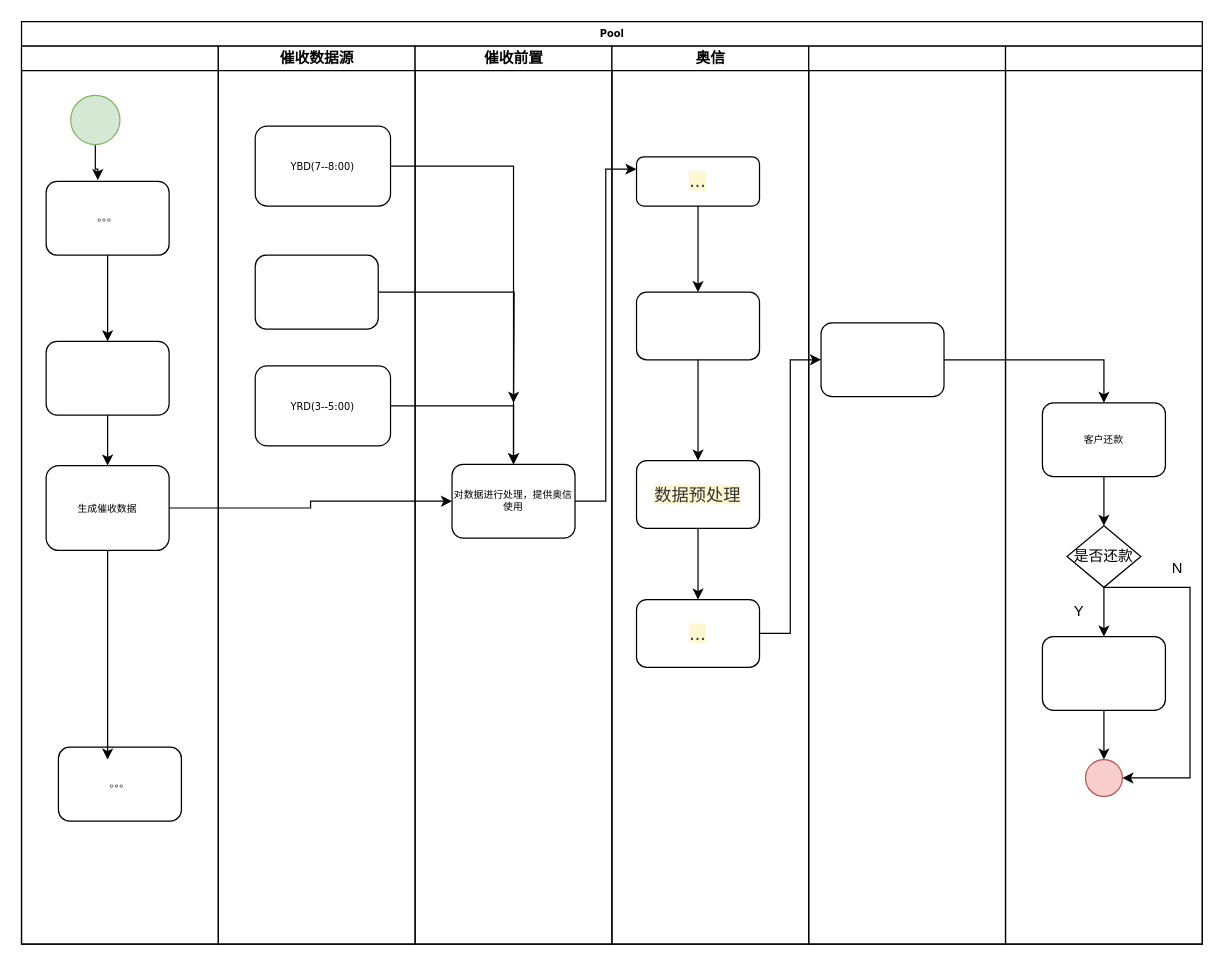
The diagram is 1224 pixels wide and 966 high, and some of its shapes have lost their labels. Here are the shapes that lost their labels. From the top down, the box of each, then its label:
(254, 254, 378, 329): XW(3-5：00)
(635, 291, 760, 360): 客户出催
(820, 322, 944, 397): 催收员催收
(20, 45, 218, 944): 核心日终
(807, 45, 1006, 944): 催收
(1004, 45, 1202, 944): 客户行为
(1041, 635, 1165, 710): 结算
